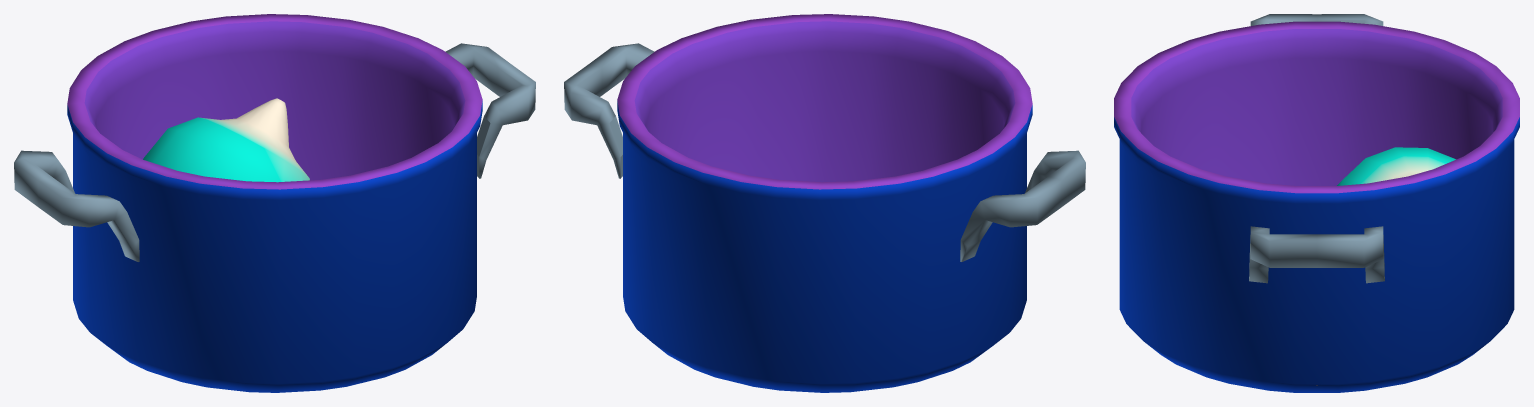
Rendered from ChickenNoodleSoupPotCooked.fbx.
The picture shows the model from 3 angles, left to right: view 1: azimuth 30°, elevation 25°; view 2: azimuth 150°, elevation 25°; view 3: azimuth 270°, elevation 25°; orthographic projection.
Visible parts, largest first — view 1: Pot.001, Handles.001, Onion.009; view 2: Pot.001, Handles.001; view 3: Pot.001, Handles.001, Onion.009.
Boxes of the visible parts, <box> form: Pot.001: <box>67,14,482,392</box>; Handles.001: <box>14,43,535,261</box>; Onion.009: <box>143,98,309,182</box>; Pot.001: <box>617,14,1032,392</box>; Handles.001: <box>564,43,1085,261</box>; Pot.001: <box>1114,21,1519,392</box>; Handles.001: <box>1249,14,1384,283</box>; Onion.009: <box>1337,147,1455,185</box>.
Size of the model in its own units: 83.38 by 37.11 by 62.94.
